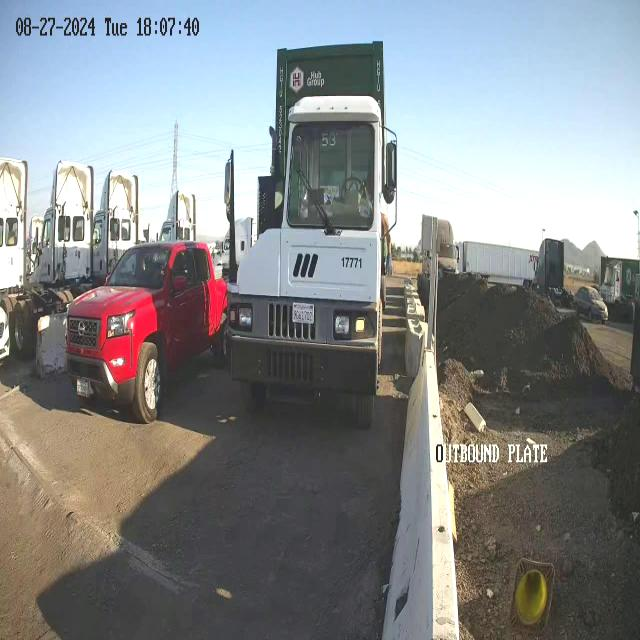CONTAINER: (272, 36, 387, 298)
